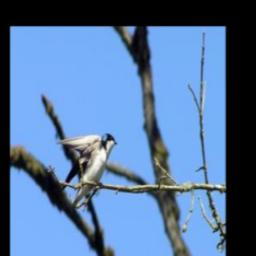Swallow: (55, 130, 118, 213)
